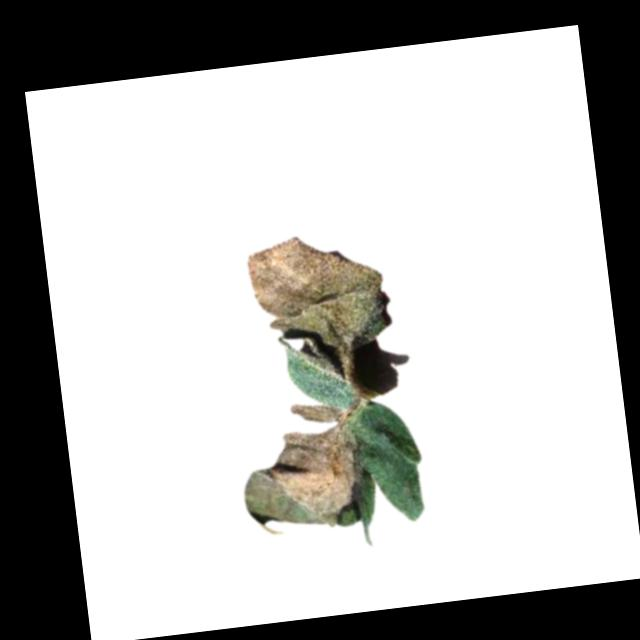Late_blight: (233, 395, 379, 538), (244, 224, 395, 357)
